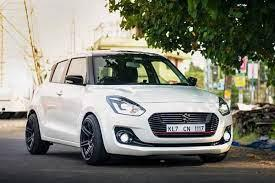Hatchback: (20, 49, 235, 164)
